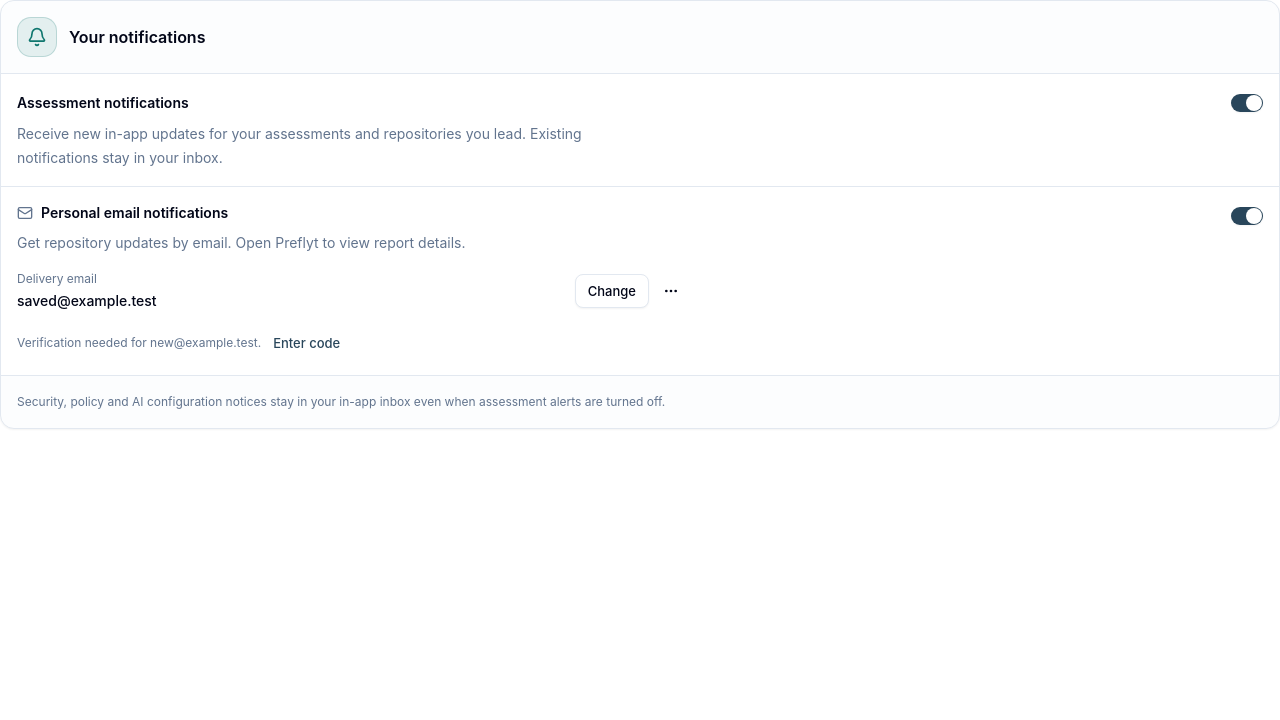
Scenario: shows delivery failure and allows a new code after the resend cooldown
Click the button "Enter code" at (307, 343), box [273,327,340,359]
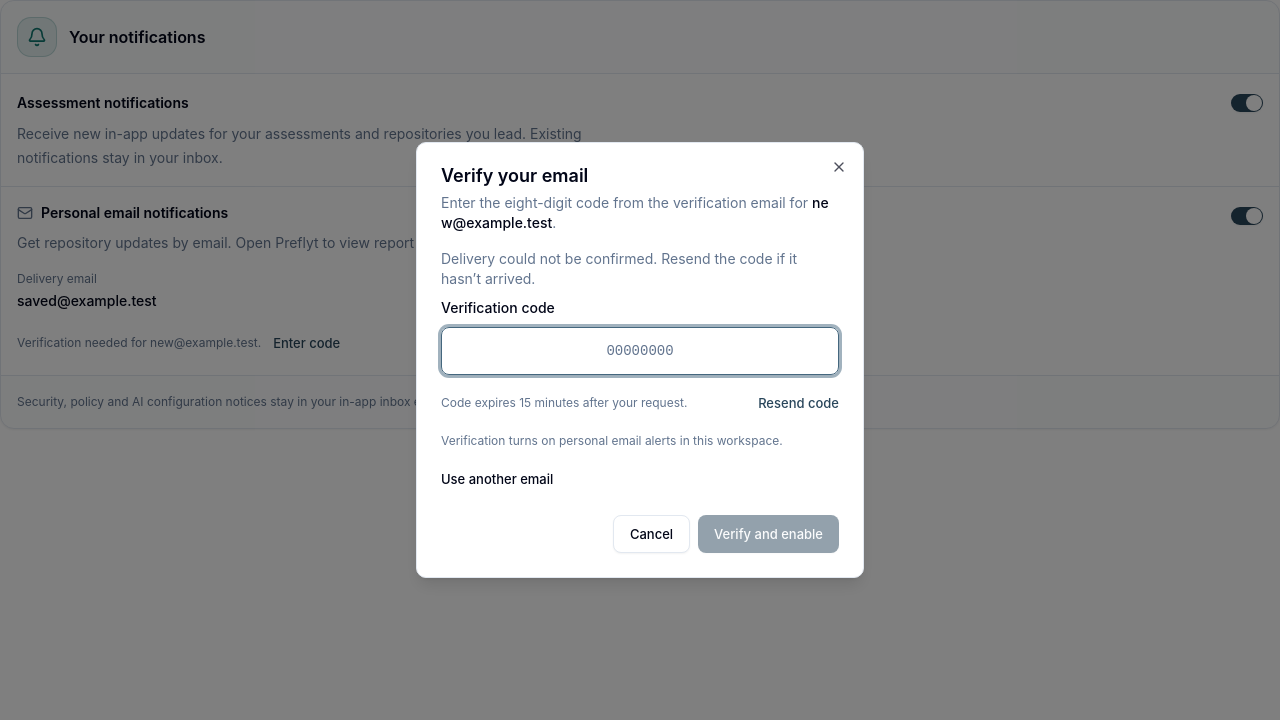
expect the text "Delivery could not be confirmed. Resend the code if it hasn’t arrived." is shown: met, box [441,249,839,289]
expect the button "Resend code" is enabled: met, box [758,387,839,419]
